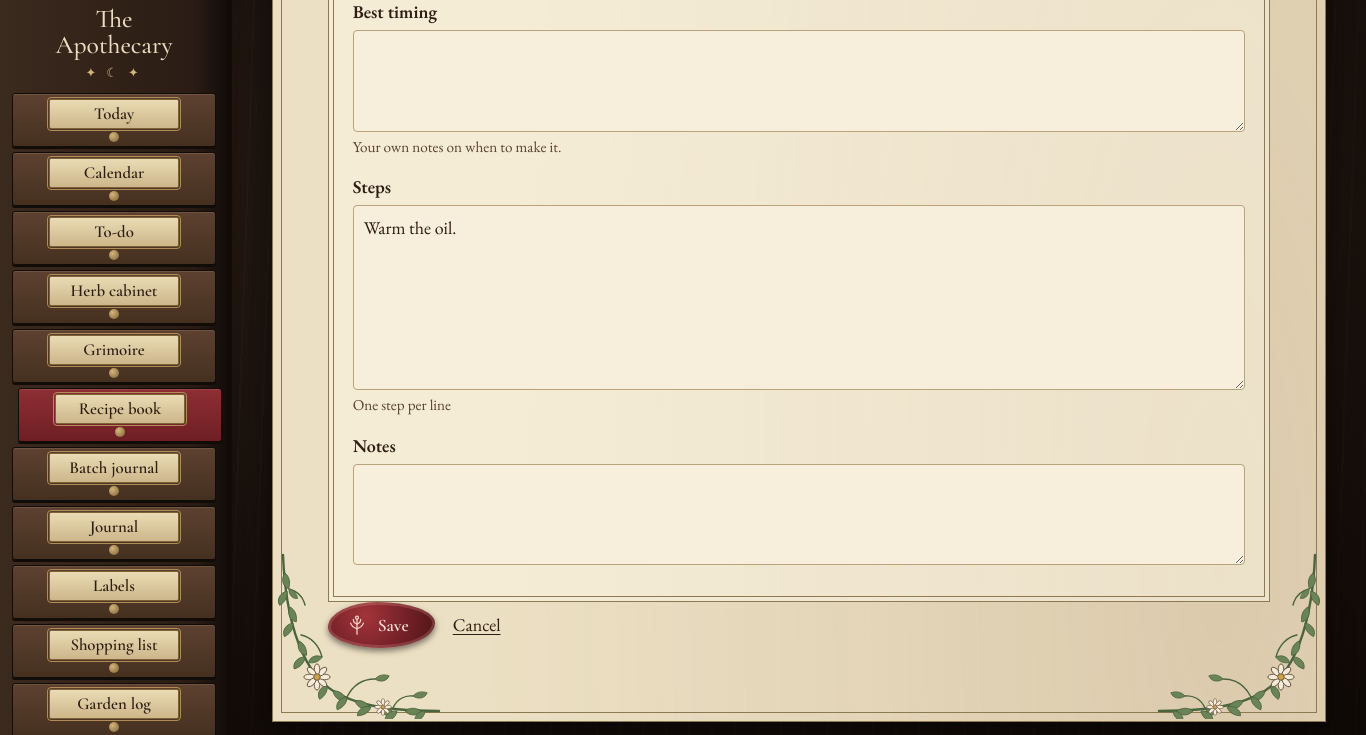
Test case: shows a row error on its row and clears every ingredient error when the list changes
(page scrolled)
Click the button "Save". click: coordinates (381, 625)
box: [328,602,435,648]
(page scrolled)
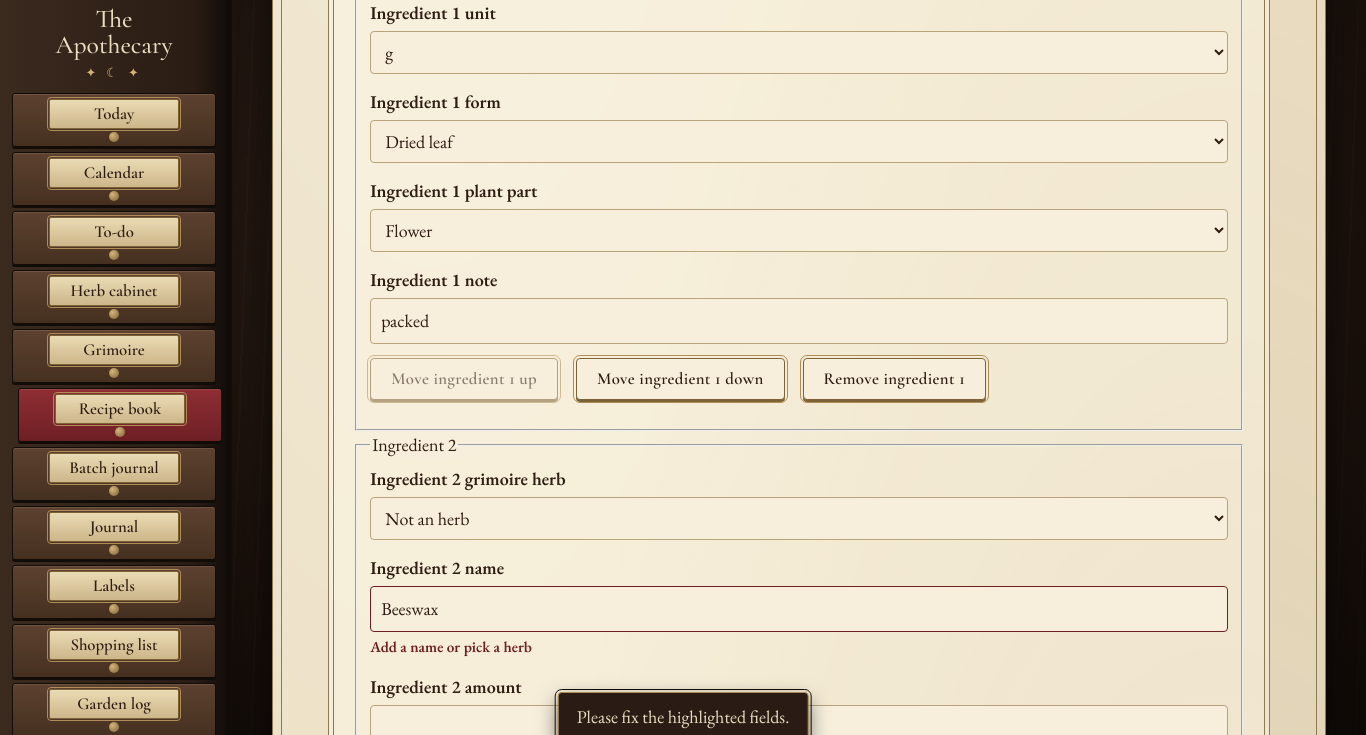
expect the text "Add a name or pick a herb" shows "Ingredient 2": met, box [372,433,456,456]
Click the button "Remove ingredient 1". click: coordinates (894, 379)
box: [802,358,986,400]
(page scrolled)
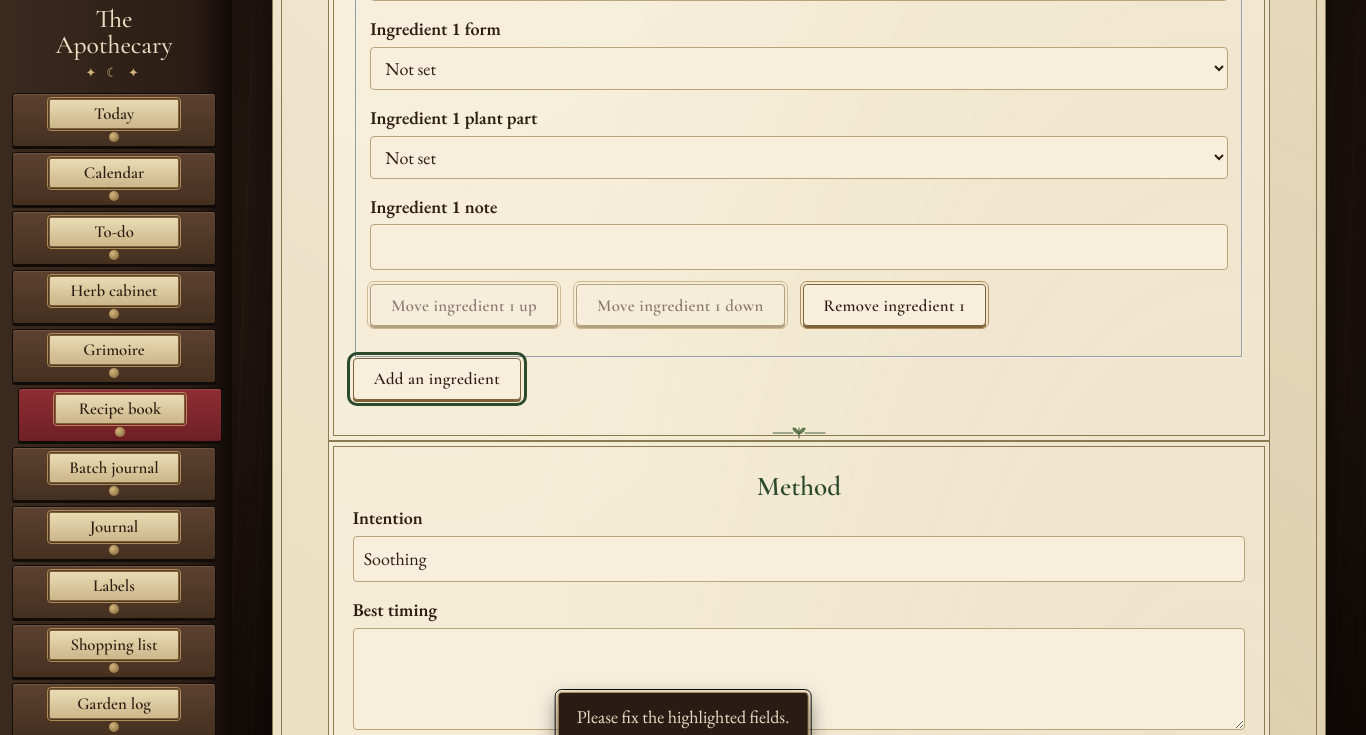
expect the text "Add a name or pick a herb" is gone: met
